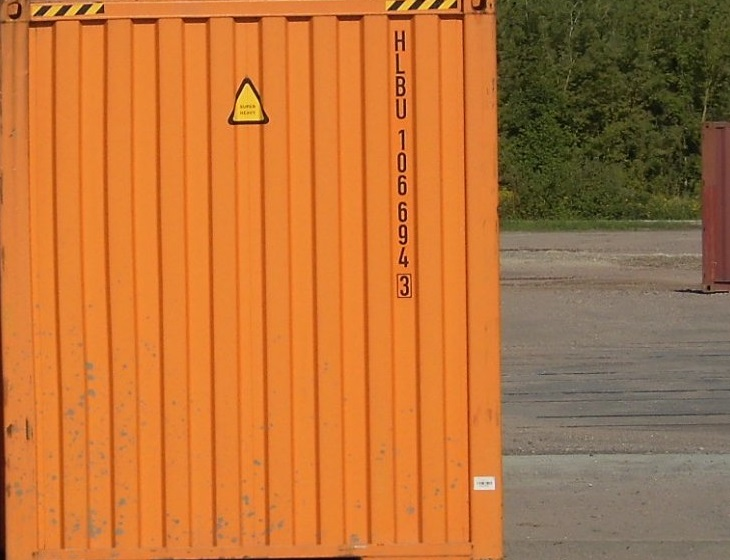container_no_door: (4, 3, 502, 559)
